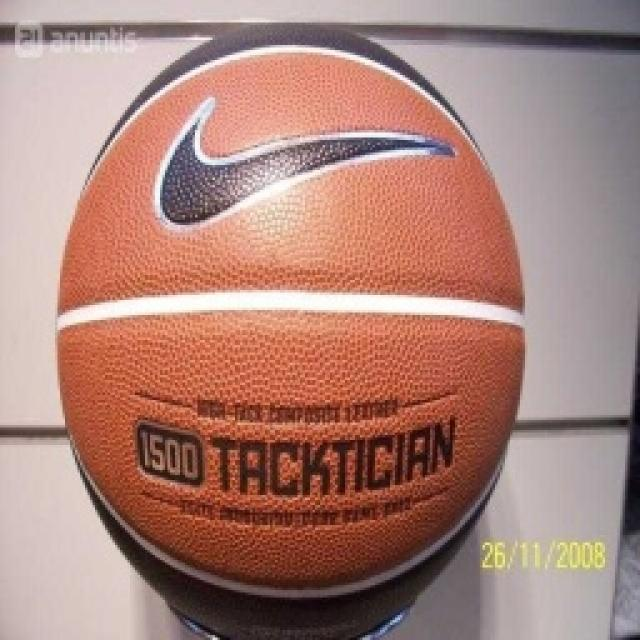rim: (49, 16, 552, 640)
